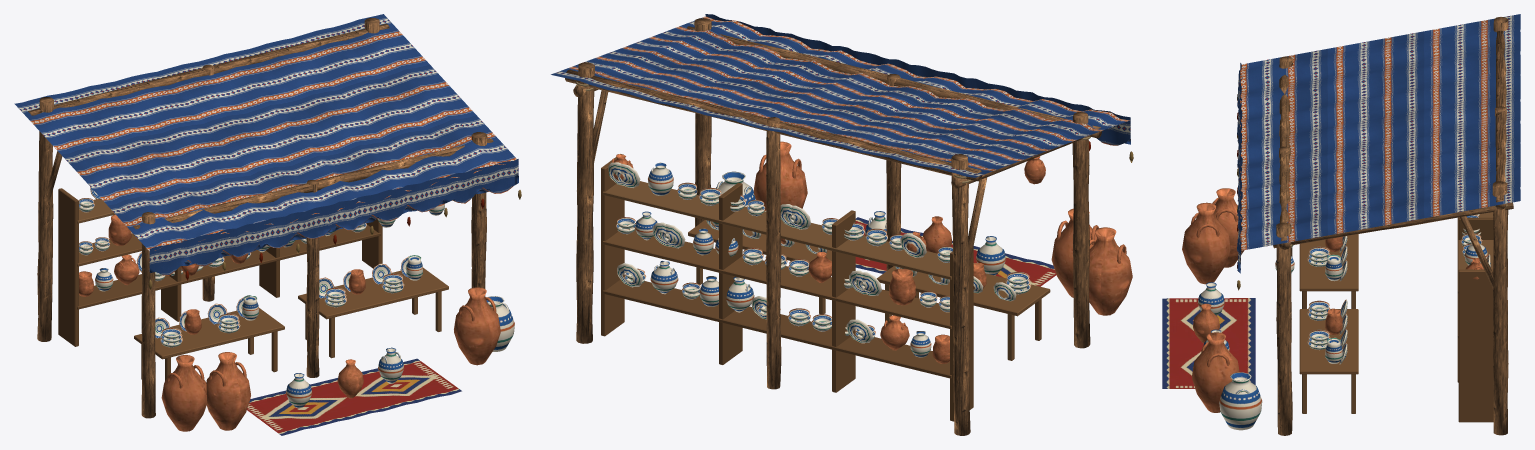
The model's file is village-kiosk-3-lite.glb.
3 renders of one model, left to right at view 1: azimuth 30°, elevation 25°; view 2: azimuth 150°, elevation 25°; view 3: azimuth 270°, elevation 25°, orthographic. The views are drawn at different scales.
Parts seen in each view (by area): view 1: K3_Cloth, K3_Wood, K3_Props; view 2: K3_Wood, K3_Cloth, K3_Props; view 3: K3_Cloth, K3_Wood, K3_Props.
Part boxes in pixels (x1,y1,x2,y2): K3_Cloth: [14, 14, 518, 275]; K3_Wood: [28, 18, 493, 418]; K3_Props: [79, 187, 521, 435]; K3_Wood: [565, 18, 1101, 435]; K3_Cloth: [551, 14, 1130, 177]; K3_Props: [575, 81, 1133, 363]; K3_Cloth: [1236, 14, 1520, 273]; K3_Wood: [1273, 17, 1513, 435]; K3_Props: [1162, 94, 1507, 430].
Size of the model in its own units: 4.54 by 2.78 by 3.65.
Materials: 3 (3 with a texture image).
